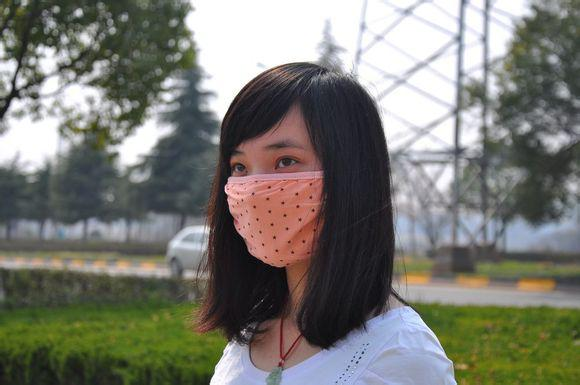OK: (225, 143, 345, 263)
